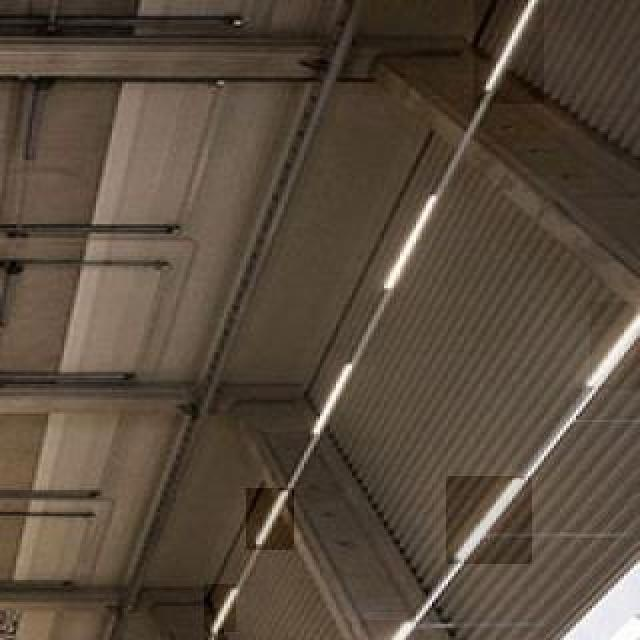fluorescent tube: (365, 186, 453, 306), (459, 7, 537, 125), (440, 473, 535, 560), (300, 346, 365, 449), (576, 313, 640, 395), (240, 487, 291, 553), (200, 577, 247, 635), (350, 608, 424, 640)
